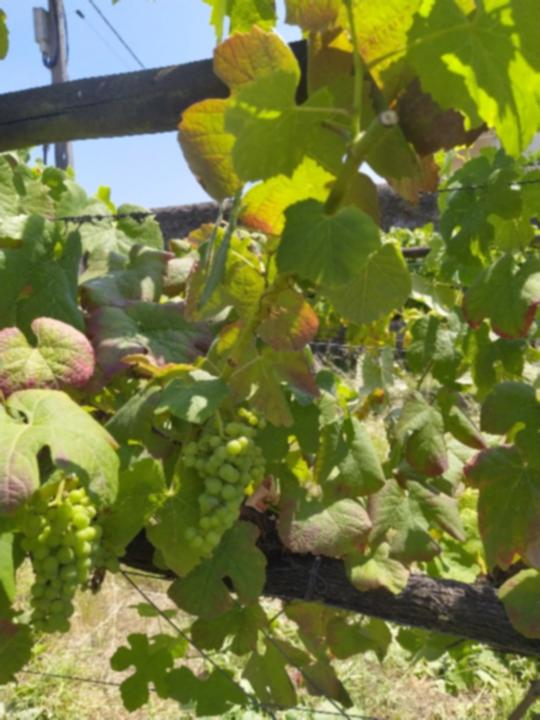grape: (17, 478, 99, 638), (181, 406, 269, 554)
